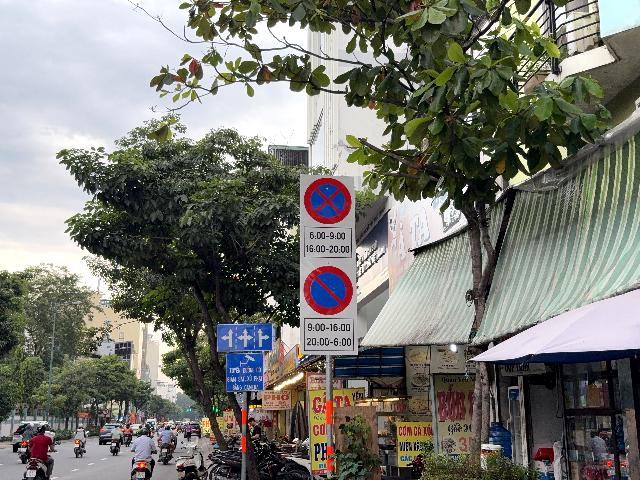cam-do-xe: (303, 263, 353, 314)
cam-dung-va-do-xe: (304, 177, 352, 224)
